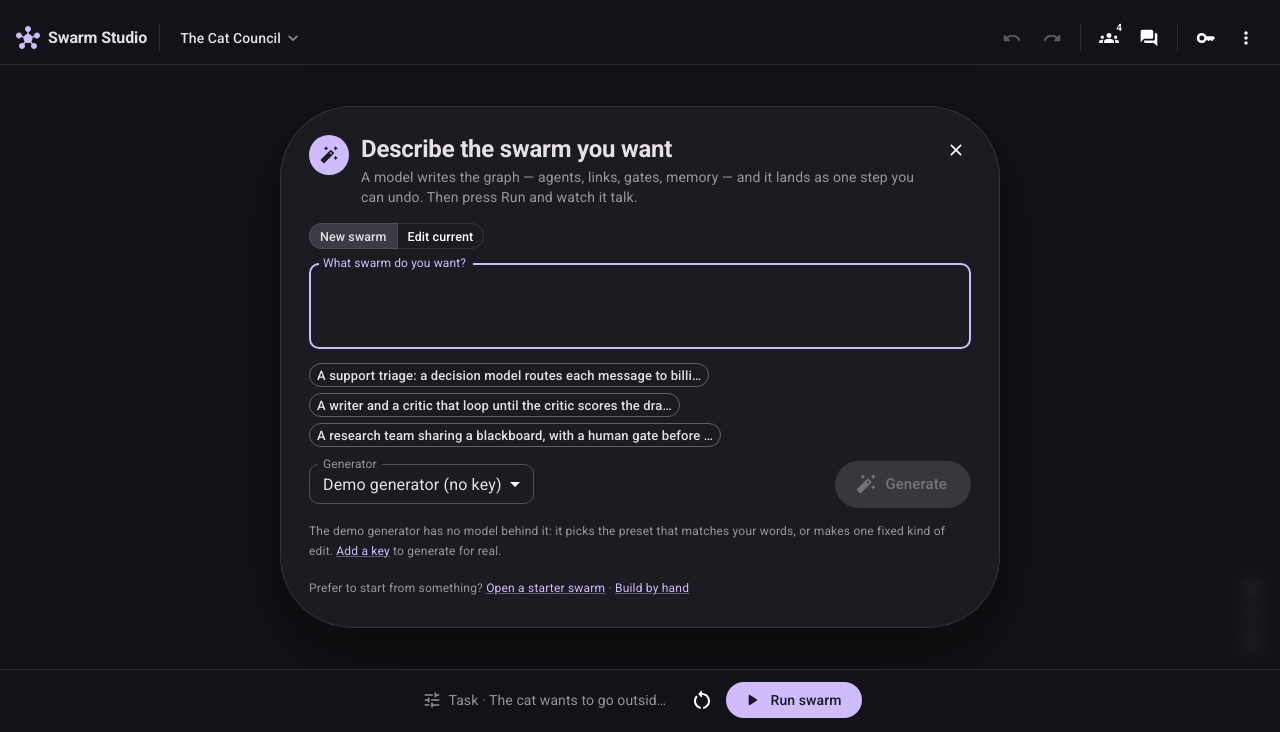
Test: the run settings hold the task and the topology, and the topologies explain themselves
Click the button with aria-label "task and run settings" at (548, 700), box [418,682,678,718]
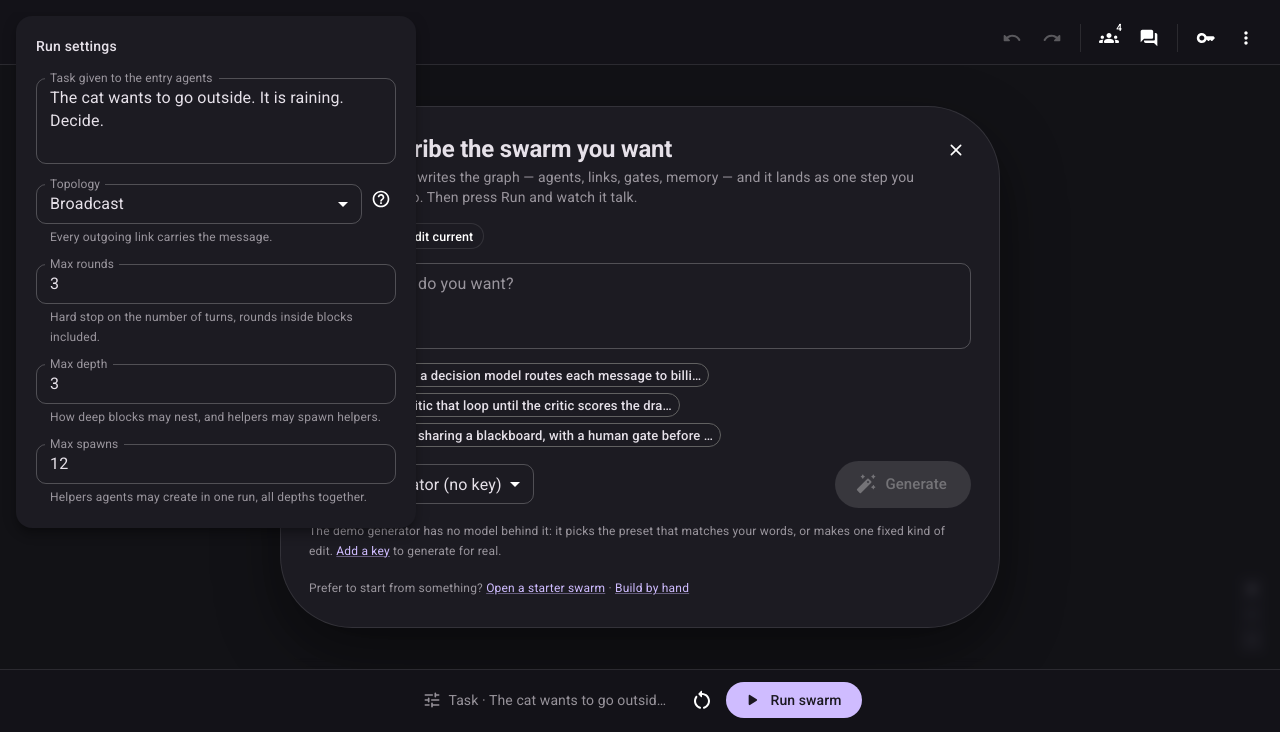
Now the text box labelled "Task given to the entry agents" is shown, box [50,86,382,156]
Now the number field labelled "Max rounds" is shown, box [36,264,396,304]
Click the button named "explain the topologies" at (381, 199), box [366,184,396,214]
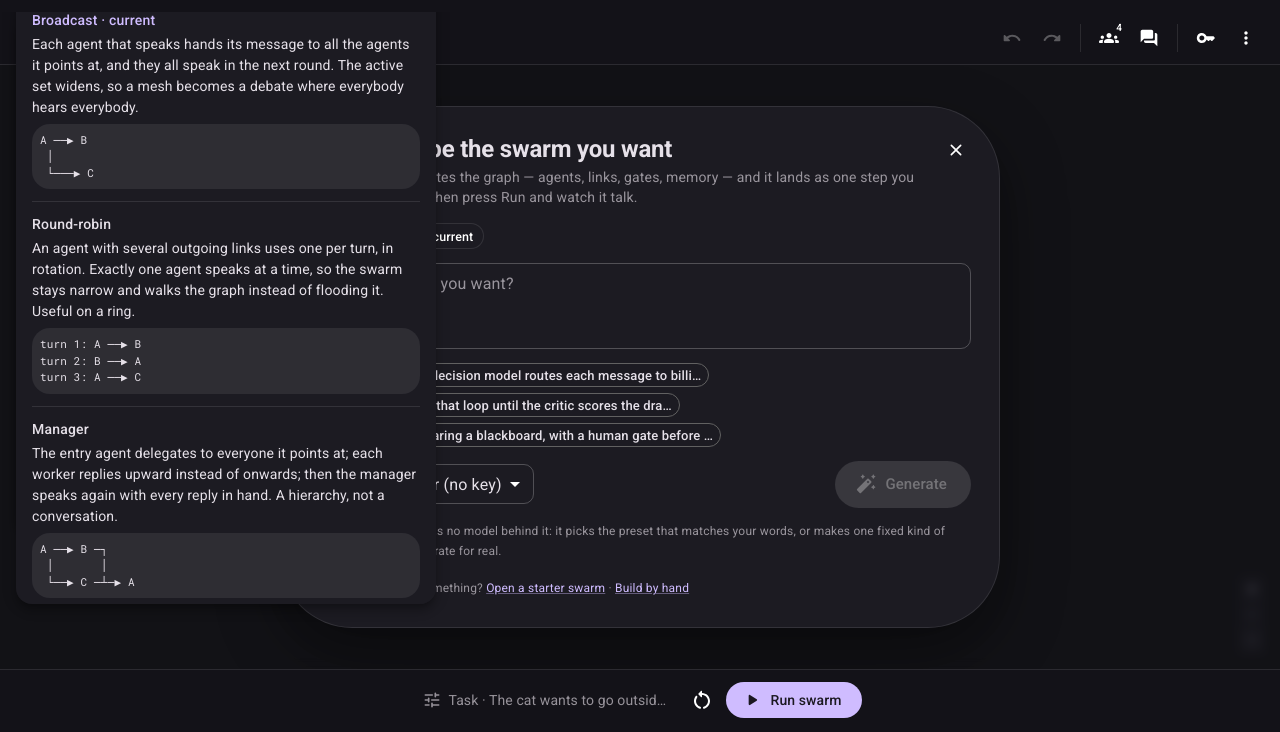
Now the text "widens" is shown, box [32,36,410,115]
Now the text "in rotation" is shown, box [32,240,402,319]
Now the text "replies upward" is shown, box [32,445,416,524]
